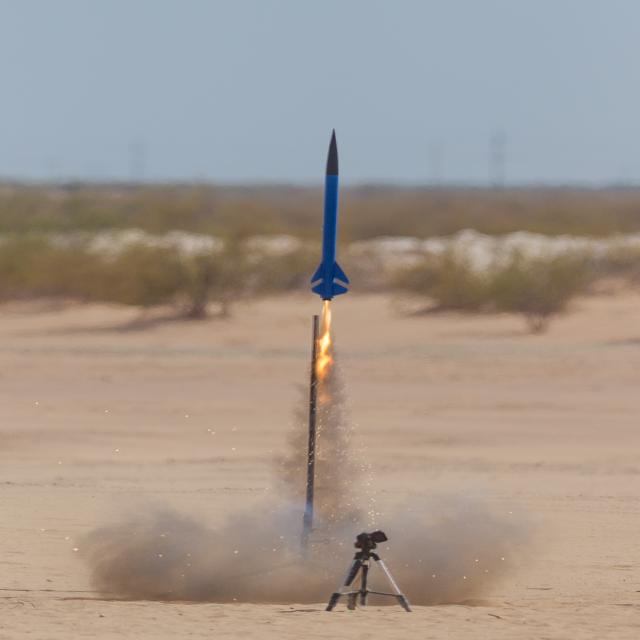Rocket: (308, 128, 354, 302)
